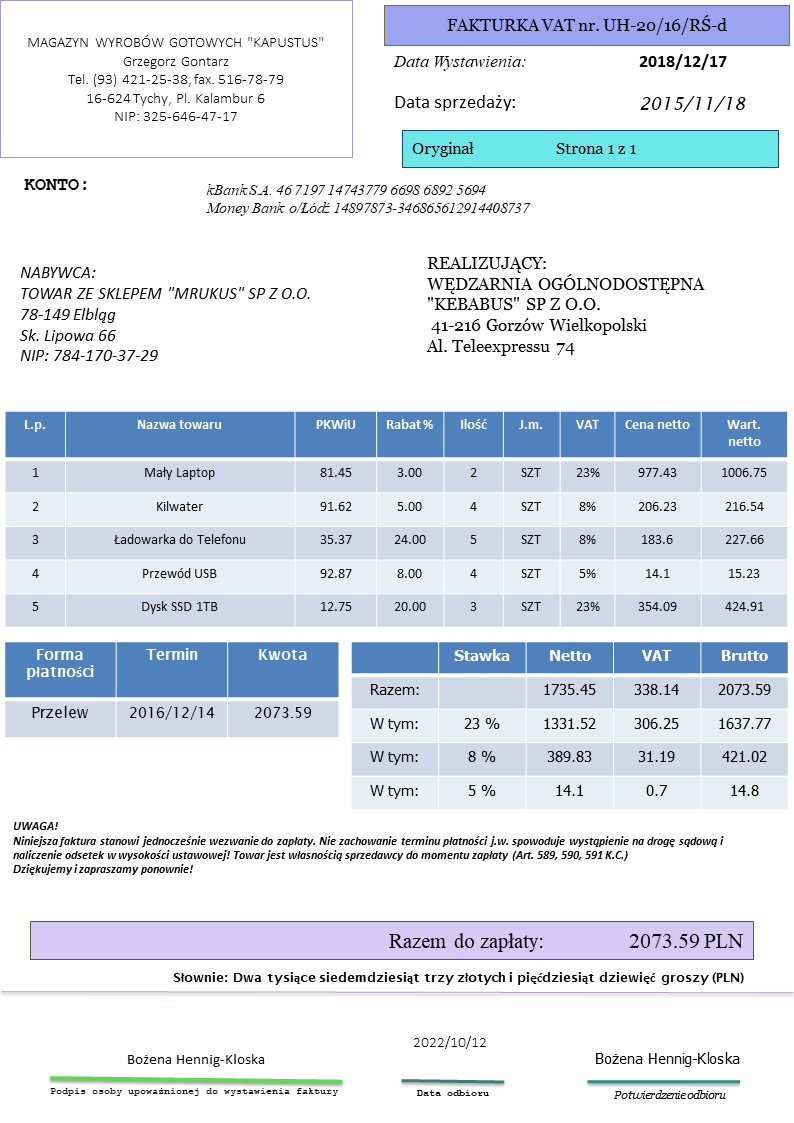Table: (3, 410, 788, 628), (350, 641, 790, 811), (3, 641, 339, 740)
TextBox: (10, 817, 730, 879), (17, 262, 314, 365), (423, 254, 706, 359), (22, 32, 327, 127), (204, 179, 533, 217), (171, 968, 749, 988), (386, 928, 745, 953), (441, 13, 730, 38), (408, 139, 639, 160), (47, 1084, 340, 1099), (389, 51, 528, 73), (389, 92, 520, 115), (592, 1049, 742, 1069), (636, 91, 748, 116), (123, 1050, 266, 1069), (611, 1085, 728, 1104), (635, 50, 728, 71), (413, 1083, 490, 1102), (411, 1034, 489, 1052), (20, 174, 87, 194)
